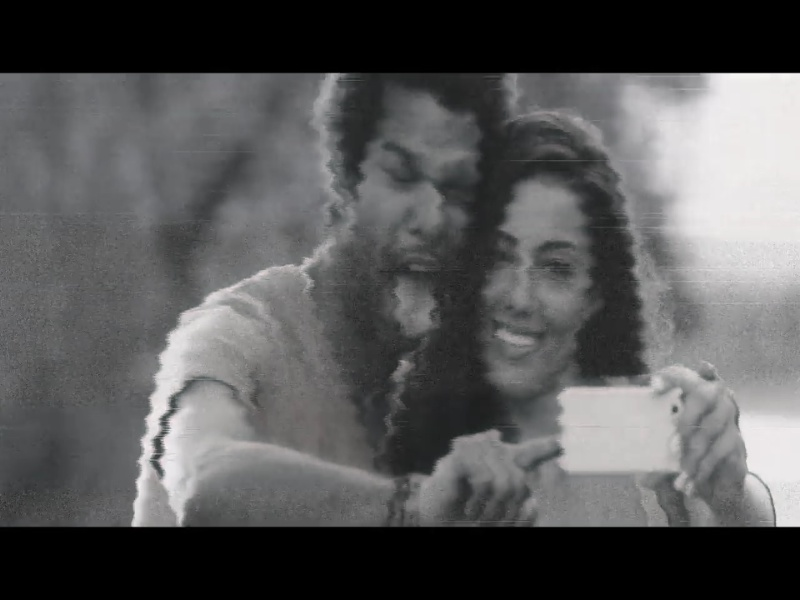TsisyArotava: (311, 73, 507, 366), (468, 116, 615, 405)
